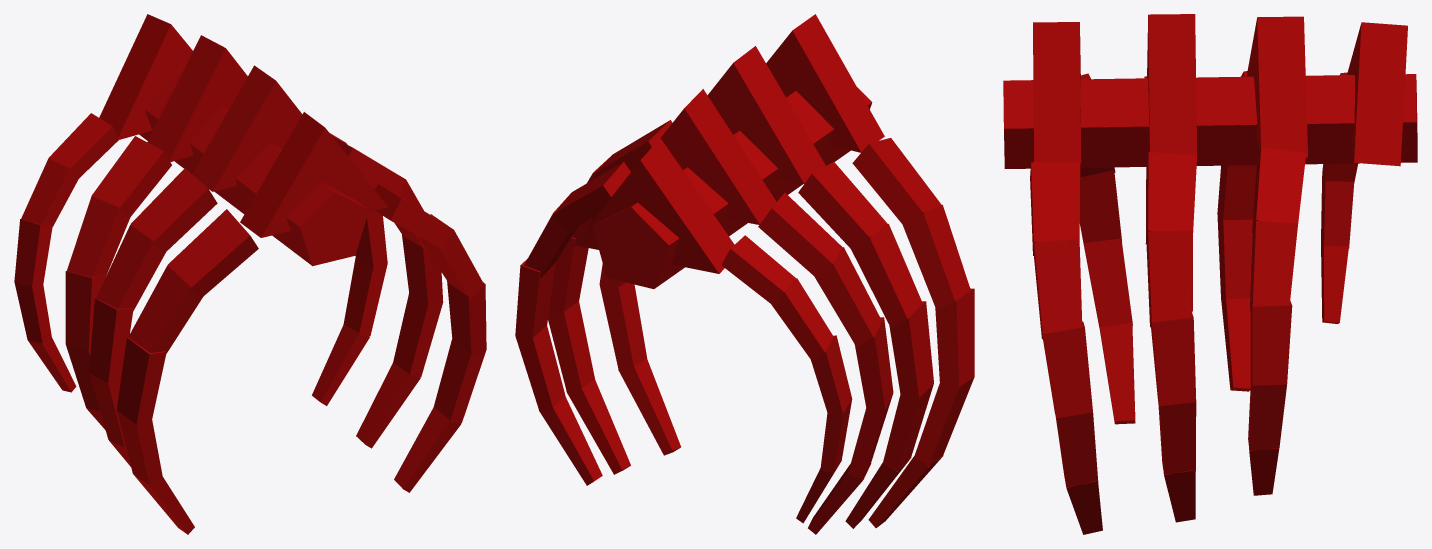
Rendered from SM_Prop_Whale_Skeleton_Ribcage_01_Collision.glb.
3 views of the same model, side by side, from view 1: azimuth 30°, elevation 25°; view 2: azimuth 150°, elevation 25°; view 3: azimuth 270°, elevation 25° (orthographic). The views are drawn at different scales.
Visible parts, largest first — view 1: SM_Prop_Whale_Skeleton_Ribcage_01_Collision; view 2: SM_Prop_Whale_Skeleton_Ribcage_01_Collision; view 3: SM_Prop_Whale_Skeleton_Ribcage_01_Collision.
Part boxes in pixels (x1,y1,x2,y2): SM_Prop_Whale_Skeleton_Ribcage_01_Collision: (14, 14, 486, 534); SM_Prop_Whale_Skeleton_Ribcage_01_Collision: (515, 14, 974, 534); SM_Prop_Whale_Skeleton_Ribcage_01_Collision: (1003, 14, 1417, 534).
Bounding box in the file's own units: 5.35 × 6.21 × 5.01.
